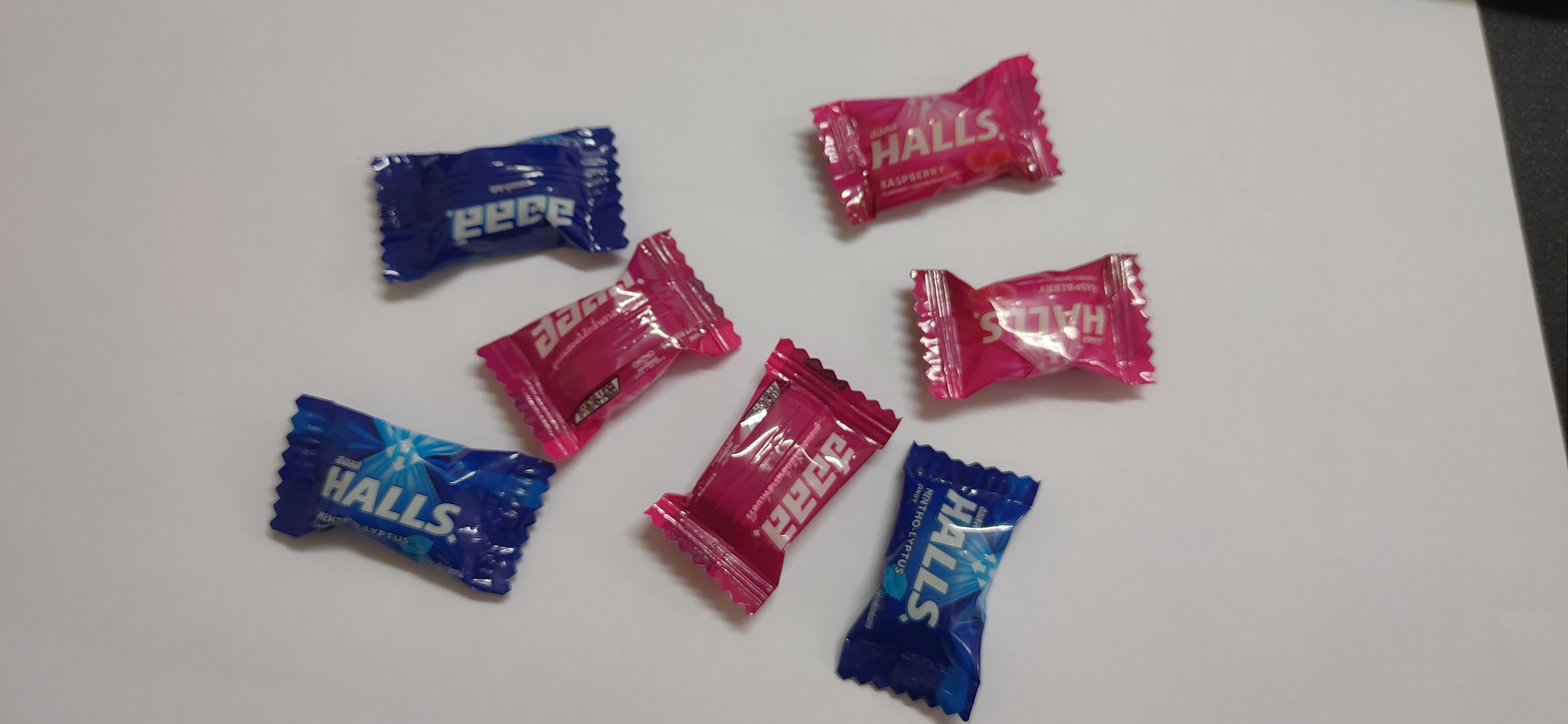plastic: (627, 309, 937, 652), (763, 26, 1119, 290), (817, 415, 1078, 724), (249, 385, 567, 633), (467, 211, 752, 481), (355, 83, 646, 328), (885, 225, 1174, 426)
